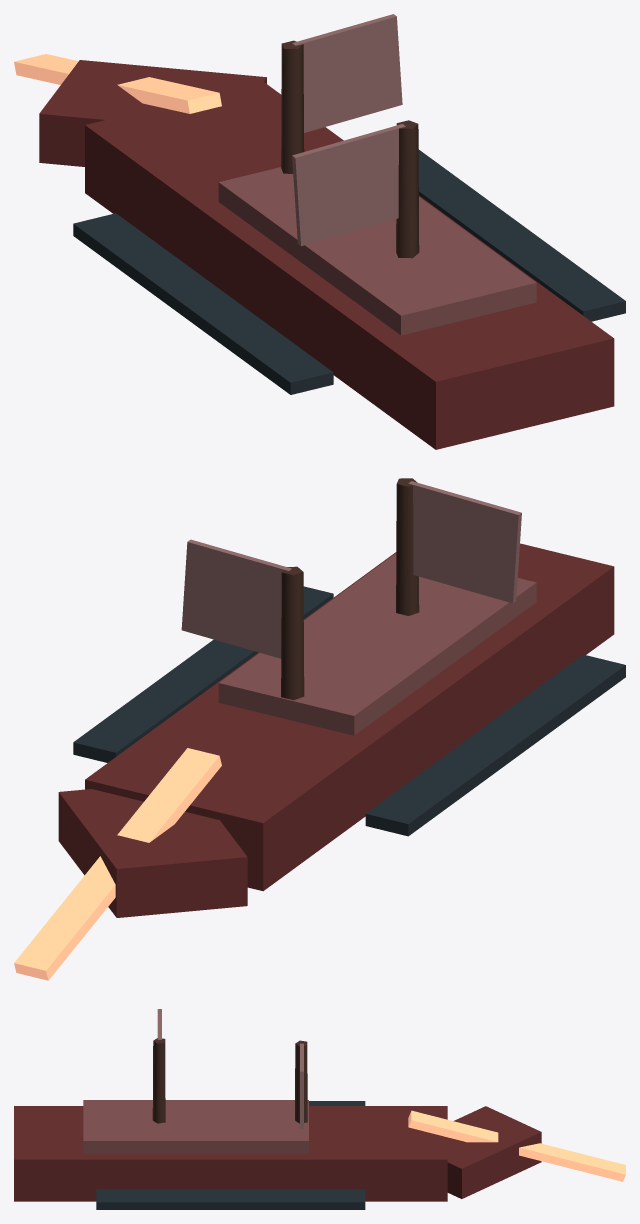
The model's file is ship_main_54_lod2.glb.
3 renders of one model, top to bottom at view 1: azimuth 30°, elevation 25°; view 2: azimuth 150°, elevation 25°; view 3: azimuth 270°, elevation 25°, orthographic. The views are drawn at different scales.
Visible parts, largest first — view 1: Hull, Deck_0, PortOutrigger, Sail_1, Sail_0, StarboardOutrigger, Bow, ProwIdentity, Mast_1, Mast_0; view 2: Hull, Deck_0, Bow, PortOutrigger, Sail_1, Sail_0, ProwIdentity, StarboardOutrigger, Mast_0, Mast_1; view 3: Hull, Deck_0, StarboardOutrigger, Bow, ProwIdentity, Mast_1, Mast_0, Sail_0.
Boxes of the visible parts, bbox=[...] form: Hull: bbox=[85, 81, 614, 449]; Deck_0: bbox=[218, 167, 536, 335]; PortOutrigger: bbox=[73, 213, 333, 394]; Sail_1: bbox=[292, 124, 405, 246]; Sail_0: bbox=[292, 14, 402, 132]; StarboardOutrigger: bbox=[418, 149, 625, 321]; Bow: bbox=[39, 60, 266, 166]; ProwIdentity: bbox=[14, 54, 221, 113]; Mast_1: bbox=[396, 120, 419, 258]; Mast_0: bbox=[281, 40, 304, 173]; Hull: bbox=[85, 543, 614, 891]; Deck_0: bbox=[218, 553, 536, 735]; Bow: bbox=[58, 789, 247, 917]; PortOutrigger: bbox=[365, 654, 625, 836]; Sail_1: bbox=[408, 481, 521, 603]; Sail_0: bbox=[181, 539, 291, 658]; ProwIdentity: bbox=[14, 748, 221, 980]; StarboardOutrigger: bbox=[73, 586, 333, 762]; Mast_0: bbox=[281, 566, 304, 700]; Mast_1: bbox=[396, 478, 419, 615]; Hull: bbox=[14, 1106, 447, 1201]; Deck_0: bbox=[83, 1100, 308, 1153]; StarboardOutrigger: bbox=[96, 1189, 365, 1209]; Bow: bbox=[447, 1106, 541, 1198]; ProwIdentity: bbox=[408, 1110, 625, 1181]; Mast_1: bbox=[152, 1038, 165, 1123]; Mast_0: bbox=[295, 1040, 307, 1123]; Sail_0: bbox=[300, 1043, 303, 1128].
Size of the model in its own units: 3.26 by 2.06 by 8.35.
